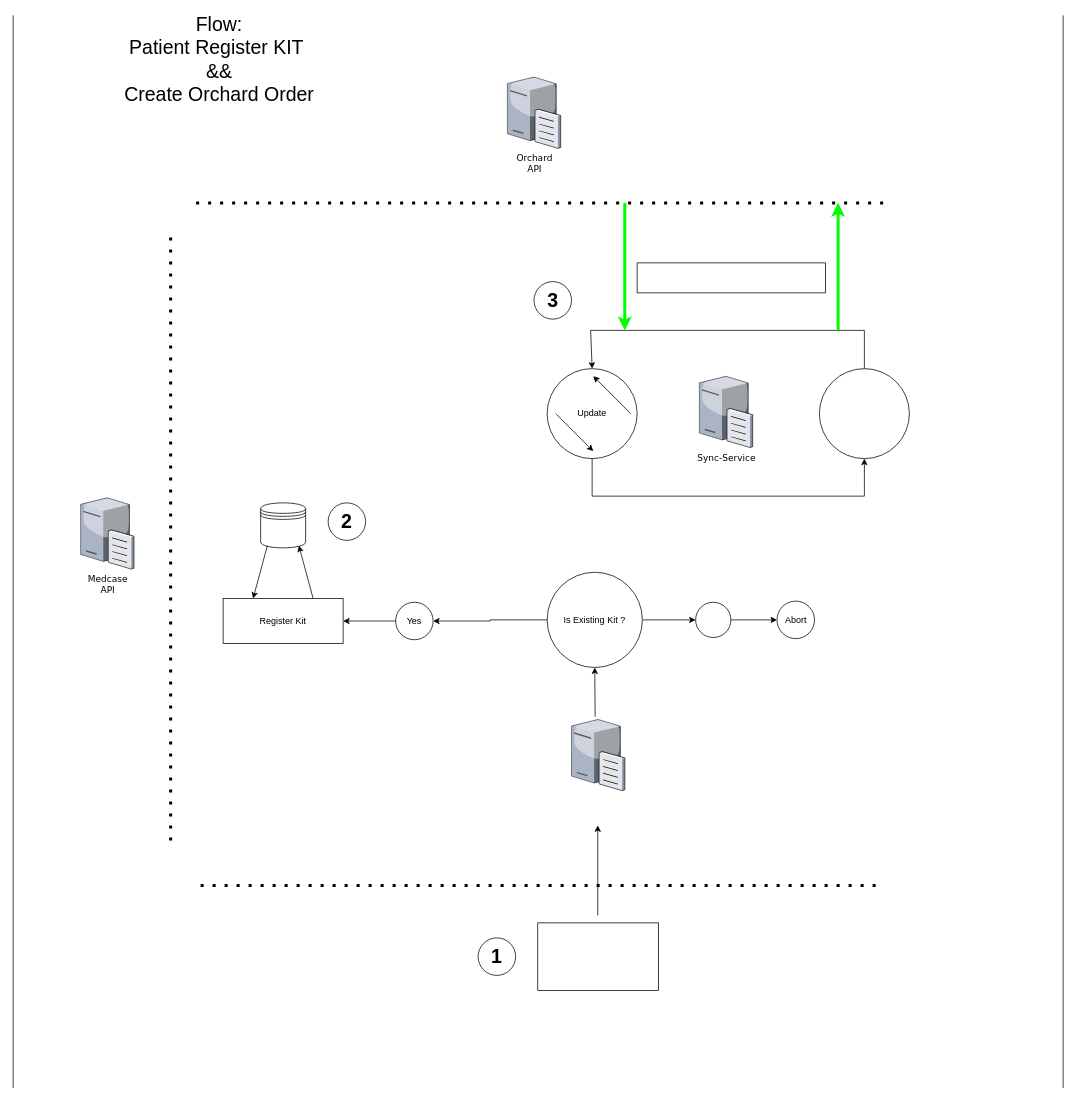
Some shapes in this 1077 by 1102 pixel diagram are drawn without their labels. The shapes that lost their labels are listed below. From the top down, each one's centre as x and y in pixels, then its label:
At point (730, 277): "Create Orchard Order".
At point (864, 413): "Check fo Updates".
At point (283, 525): "DB".
At point (713, 620): "No".
At point (597, 753): "Renegade API".
At point (597, 956): "Patient Register KIT /register-kit".
